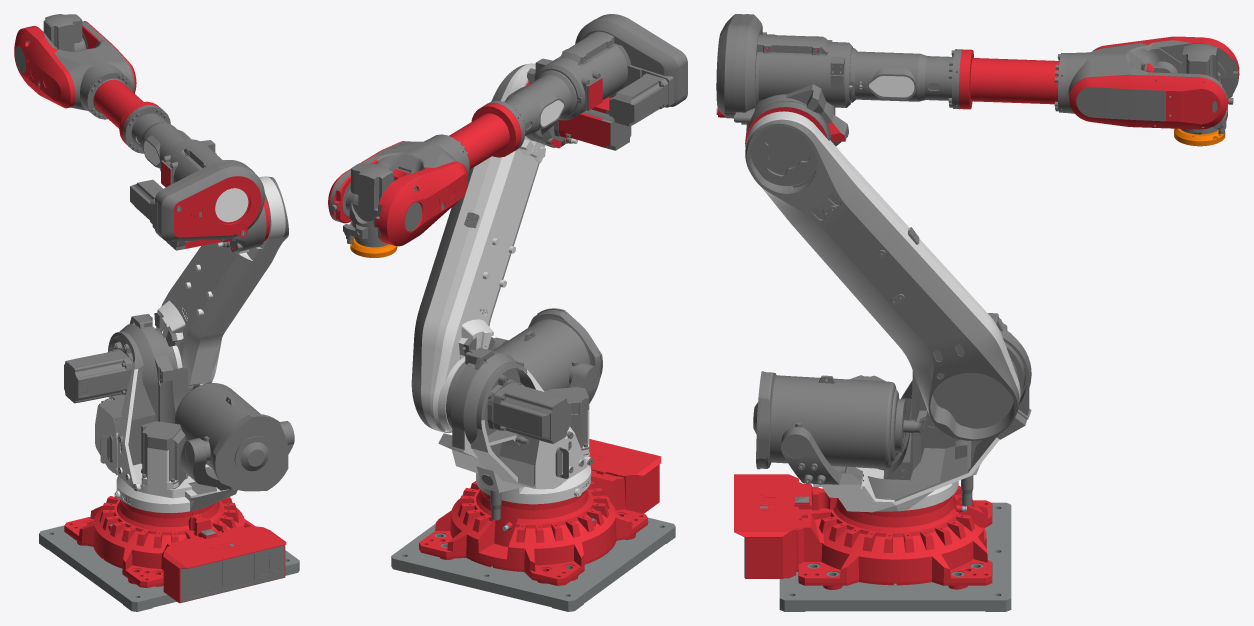
File: IRB6700-MH3_150Kg-3.20M With Robot Pedestal (2).fbx
3 views of the same model, side by side, from view 1: azimuth 30°, elevation 25°; view 2: azimuth 150°, elevation 25°; view 3: azimuth 270°, elevation 25° (orthographic). The views are drawn at different scales.
Parts seen in each view (by area): view 1: mesh-4, mesh-2, mesh-5, mesh-16, mesh-8, mesh-3, mesh-11, mesh-12, mesh-9, mesh-20, mesh-1, mesh-14 (+2 smaller); view 2: mesh-2, mesh-5, mesh-4, mesh-8, mesh-12, mesh-20, mesh-3, mesh-11, mesh-16, mesh-6, mesh-14, mesh-9 (+1 smaller); view 3: mesh-6, mesh-2, mesh-11, mesh-16, mesh-8, mesh-12, mesh-4, mesh-5, mesh-20, mesh-3, mesh-14, mesh-10 (+1 smaller).
Part boxes in pixels (x1=…): mesh-4: x1=64, y1=314, x2=294, y2=502; mesh-2: x1=64, y1=496, x2=286, y2=603; mesh-5: x1=155, y1=176, x2=288, y2=391; mesh-16: x1=174, y1=383, x2=288, y2=491; mesh-8: x1=130, y1=139, x2=266, y2=252; mesh-3: x1=95, y1=360, x2=293, y2=513; mesh-11: x1=15, y1=21, x2=190, y2=168; mesh-12: x1=14, y1=21, x2=160, y2=145; mesh-9: x1=161, y1=161, x2=270, y2=250; mesh-20: x1=39, y1=525, x2=299, y2=611; mesh-1: x1=110, y1=524, x2=284, y2=602; mesh-14: x1=43, y1=14, x2=84, y2=51; mesh-2: x1=419, y1=439, x2=660, y2=585; mesh-5: x1=421, y1=63, x2=545, y2=432; mesh-4: x1=438, y1=337, x2=600, y2=520; mesh-8: x1=526, y1=14, x2=687, y2=150; mesh-12: x1=328, y1=103, x2=521, y2=246; mesh-20: x1=391, y1=517, x2=675, y2=611; mesh-3: x1=452, y1=369, x2=591, y2=504; mesh-11: x1=329, y1=70, x2=576, y2=237; mesh-16: x1=493, y1=308, x2=602, y2=390; mesh-6: x1=411, y1=64, x2=526, y2=431; mesh-14: x1=343, y1=163, x2=392, y2=247; mesh-9: x1=526, y1=78, x2=610, y2=148; mesh-6: x1=745, y1=119, x2=1019, y2=445; mesh-2: x1=734, y1=474, x2=992, y2=589; mesh-11: x1=849, y1=40, x2=1238, y2=127; mesh-16: x1=753, y1=371, x2=905, y2=469; mesh-8: x1=716, y1=14, x2=852, y2=146; mesh-12: x1=959, y1=36, x2=1239, y2=129; mesh-4: x1=781, y1=313, x2=1031, y2=505; mesh-5: x1=745, y1=111, x2=1020, y2=429; mesh-20: x1=779, y1=502, x2=1011, y2=611; mesh-3: x1=812, y1=381, x2=999, y2=512; mesh-14: x1=1181, y1=44, x2=1227, y2=134; mesh-10: x1=849, y1=75, x2=914, y2=97.
Size of what is drawn, in the model's own units: 90 by 227 by 203.
